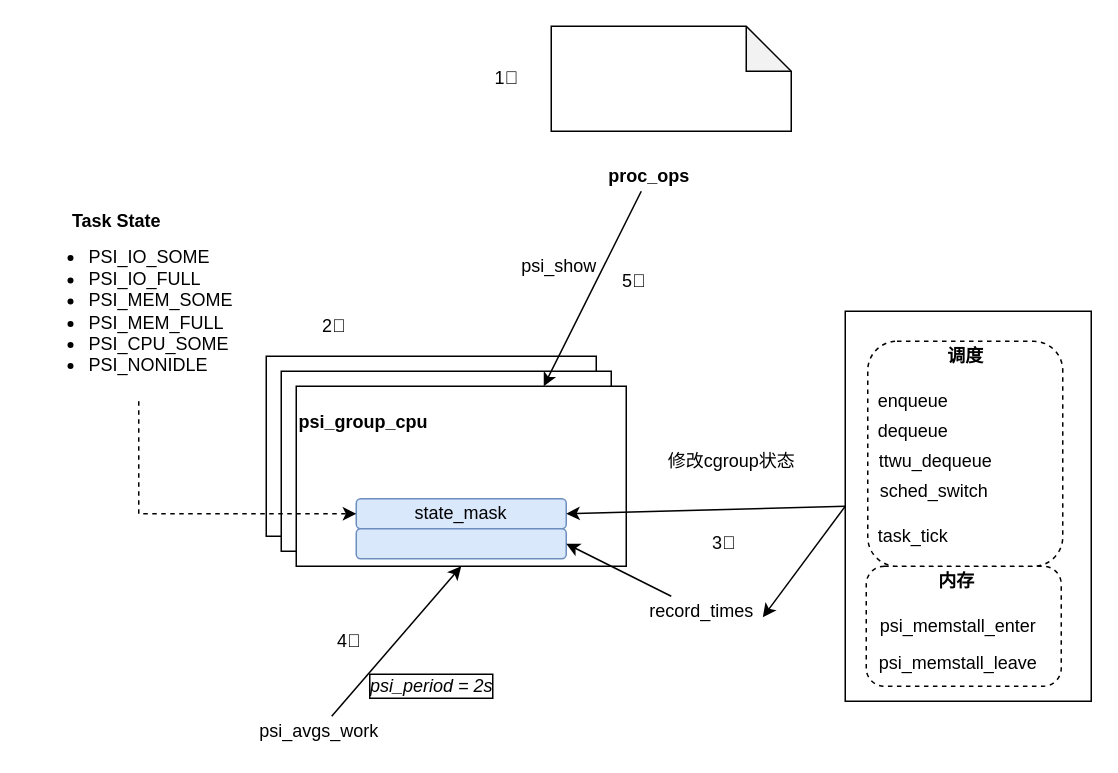
This 1118x773 diagram has some shape labels left out. Each missing label, with the centre of its shape:
/proc/pressure/io /proc/pressure/memory /proc/pressure/cpu: point 670,78
times[NR_PSI_STATES]: point 460,543
